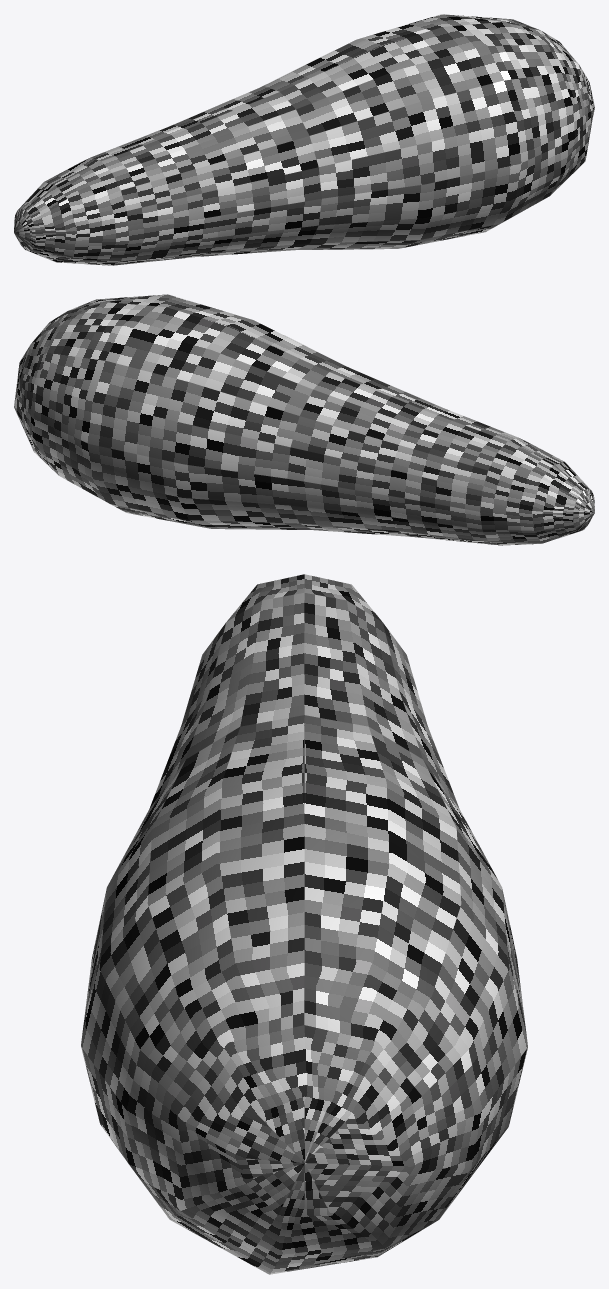
3 views of the same model, one above another, from view 1: azimuth 30°, elevation 25°; view 2: azimuth 150°, elevation 25°; view 3: azimuth 270°, elevation 25° (orthographic). The views are drawn at different scales.
Visible parts, largest first — view 1: SM_VFX_LavaProjectileBlob_LOD0; view 2: SM_VFX_LavaProjectileBlob_LOD0; view 3: SM_VFX_LavaProjectileBlob_LOD0.
Part boxes in pixels (box(x1,y1,x2,y2)): SM_VFX_LavaProjectileBlob_LOD0: box(14, 14, 594, 265); SM_VFX_LavaProjectileBlob_LOD0: box(14, 294, 594, 545); SM_VFX_LavaProjectileBlob_LOD0: box(81, 574, 527, 1274).
Bounding box in the file's own units: 2.76 × 0.9391 × 0.9397.
Materials: 1 (1 with a texture image).
